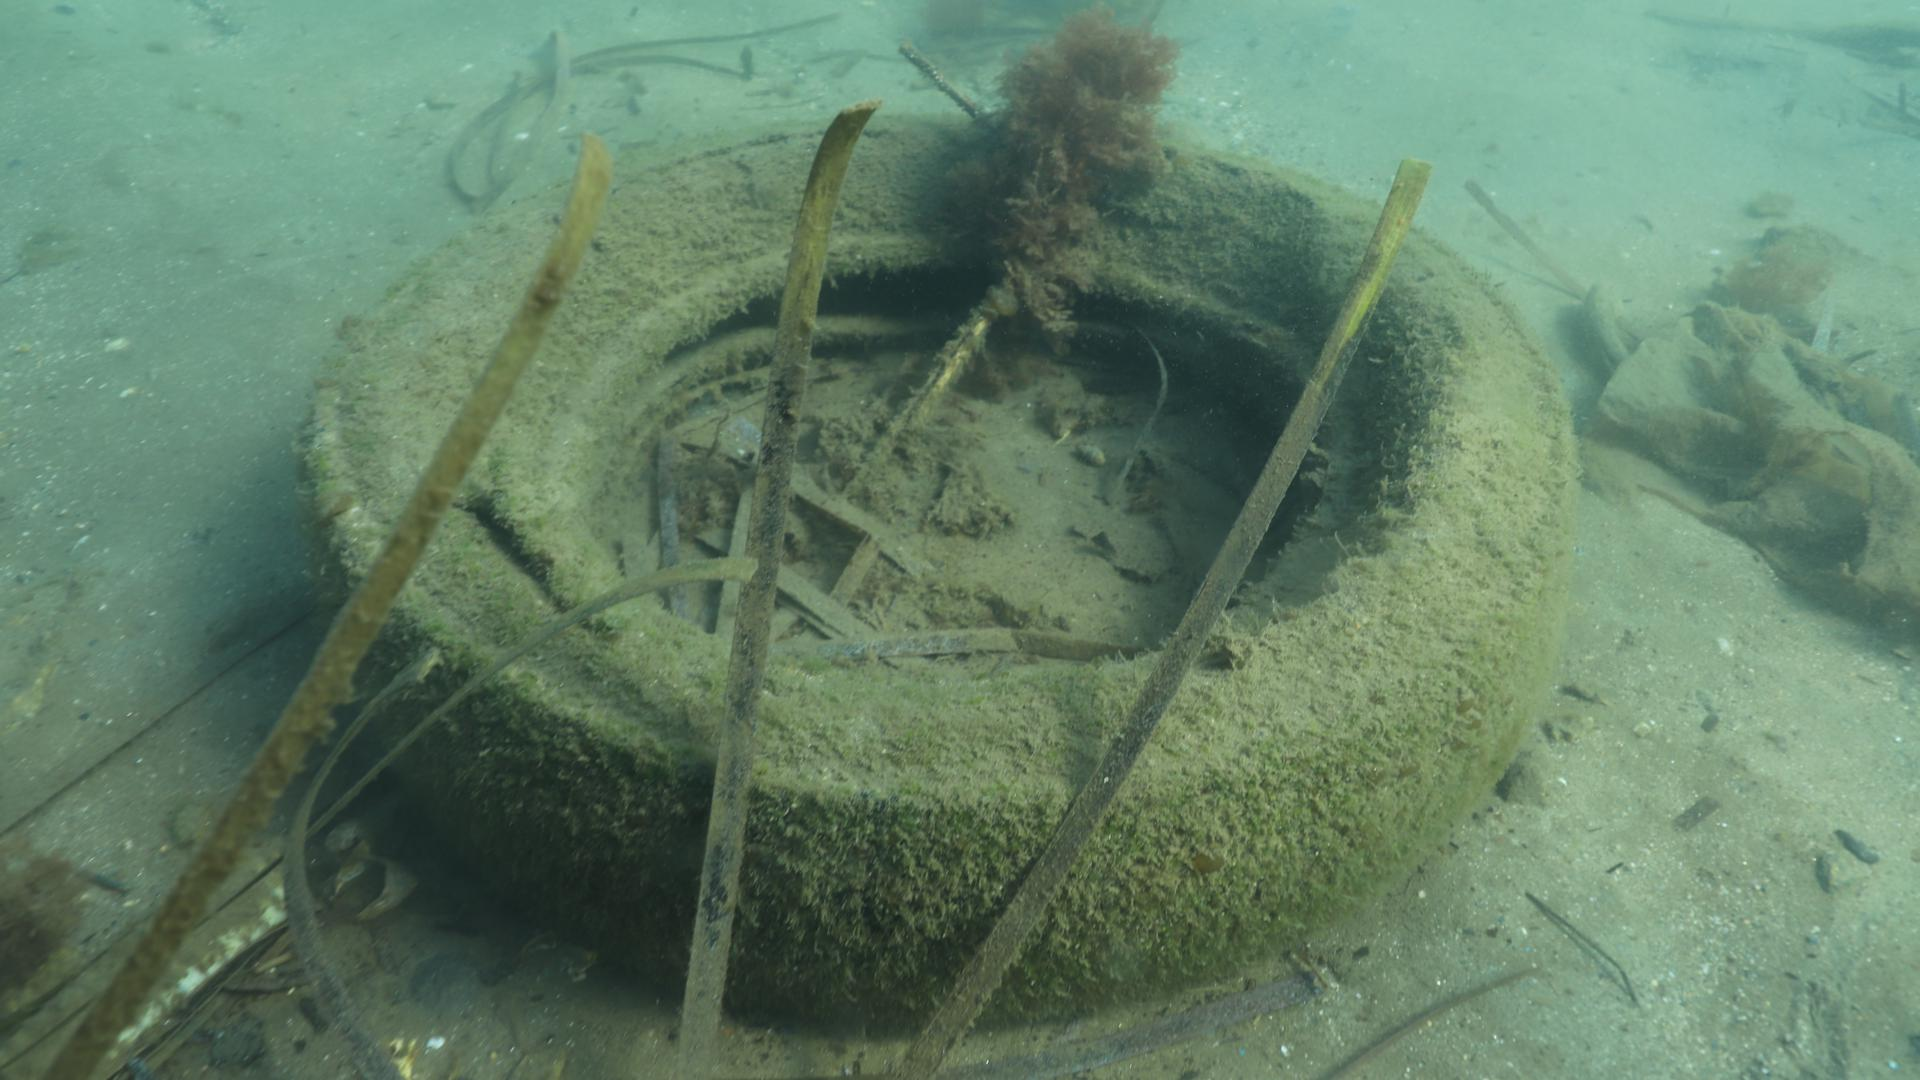tire: (305, 109, 1582, 1047)
